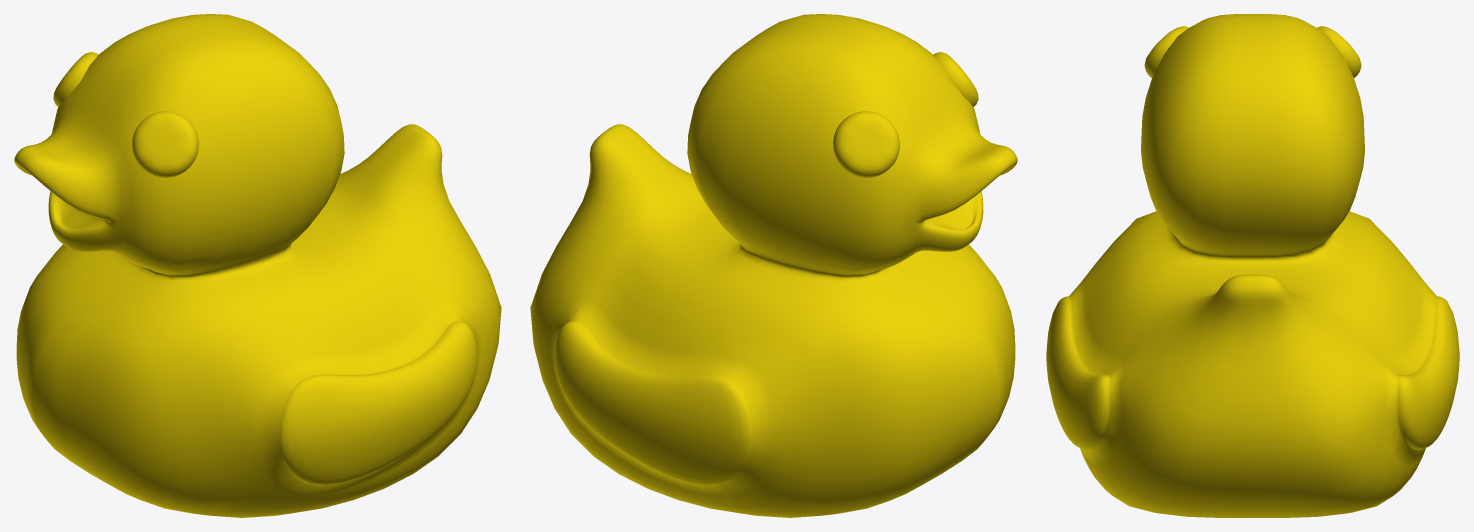
File: Rubberduck.fbx
3 renders of one model, left to right at view 1: azimuth 30°, elevation 25°; view 2: azimuth 150°, elevation 25°; view 3: azimuth 270°, elevation 25°, orthographic. The views are drawn at different scales.
Visible parts, largest first — view 1: Rubberduck; view 2: Rubberduck; view 3: Rubberduck.
Part boxes in pixels (x1,y1,x2,y2): Rubberduck: [14, 14, 501, 517]; Rubberduck: [530, 14, 1017, 517]; Rubberduck: [1046, 14, 1459, 517].
Size of the model in its own units: 166 by 159 by 141.
